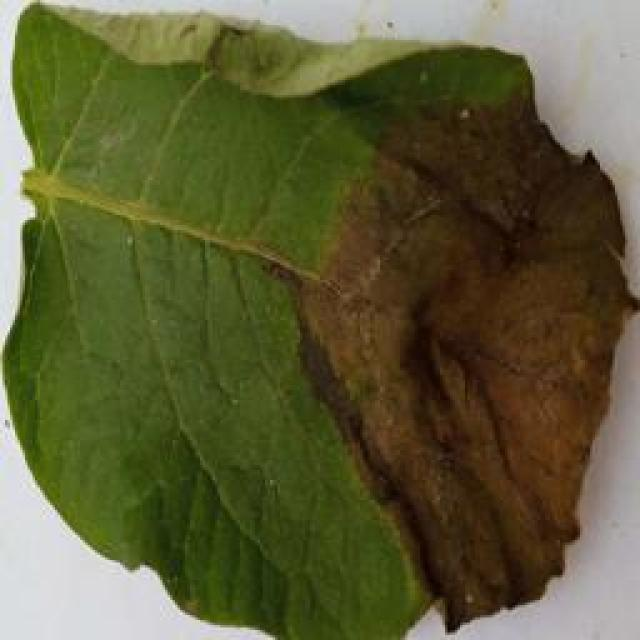Potato_Late_Blight: (2, 13, 631, 639)
